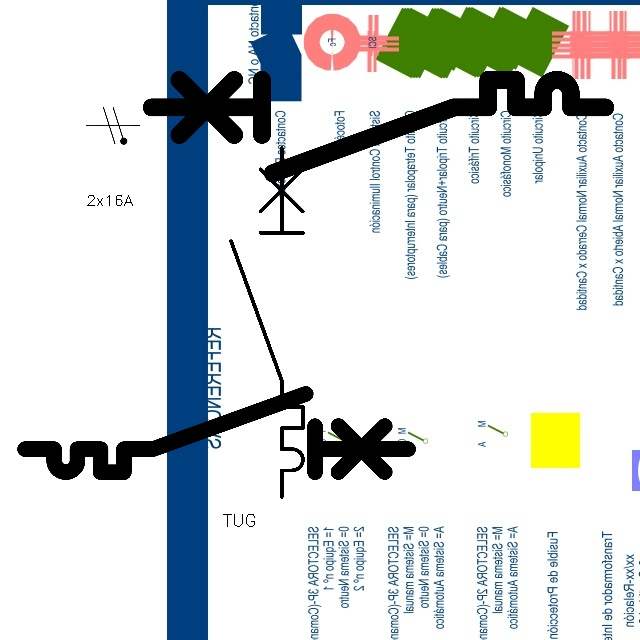interruptor_termomagnetico: (139, 68, 616, 184), (15, 384, 417, 482), (222, 139, 312, 506)
